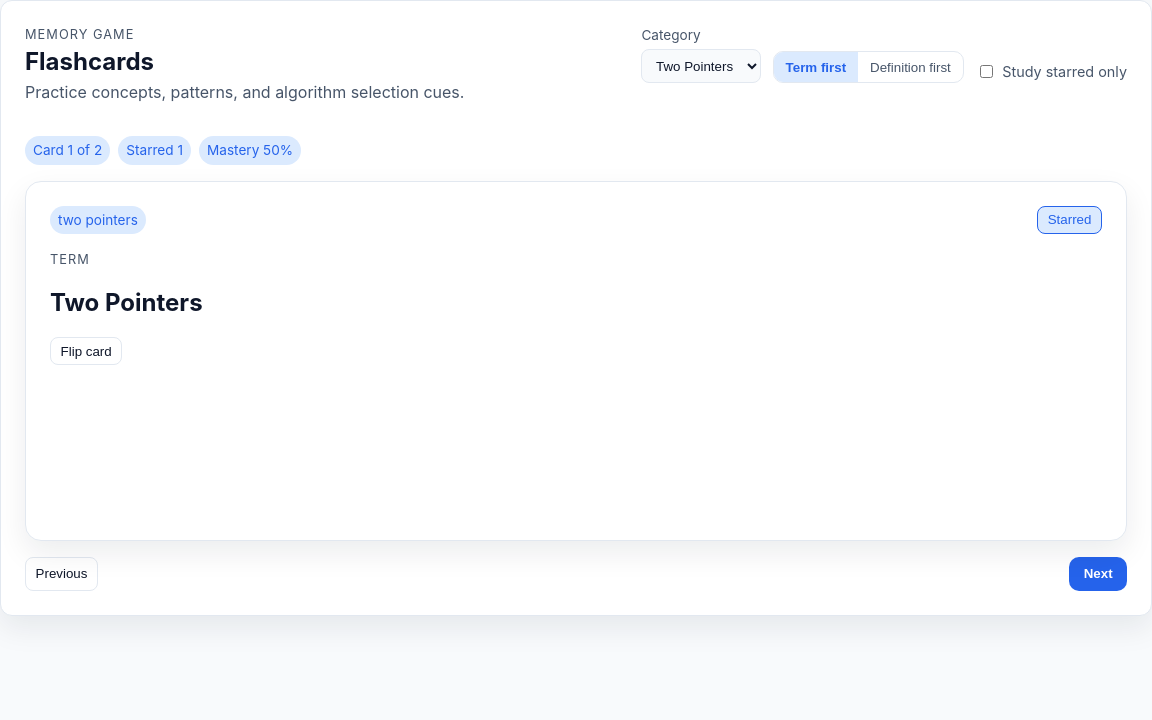
Test case: FlashcardsPage › toggles study mode and starred filter
The width and height of the screenshot is (1152, 720).
Expected: the heading "Two Pointers" is shown, [50,288,203,317]
What coordinates should you click on to do the following:
click the button "Definition first"
I would click on:
 (910, 67)
Its box is [858,52,963,82].
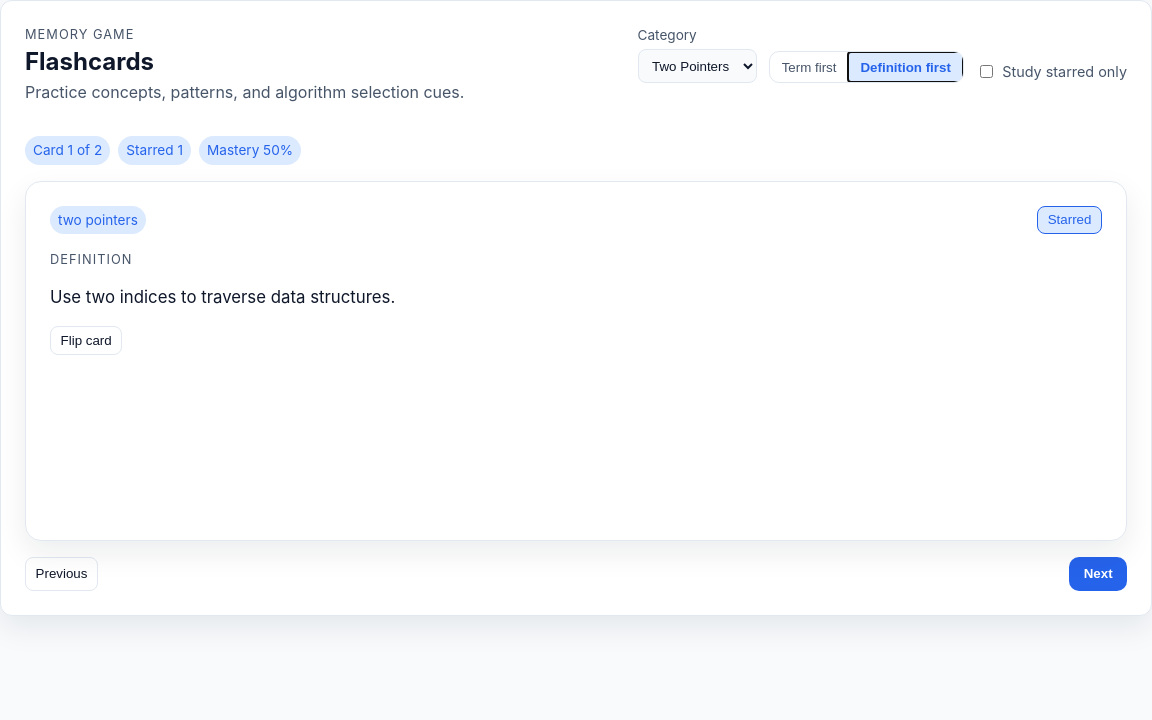
Expected: the text "Use two indices to traverse data structures." is shown, [50,287,395,307]
What coordinates should you click on to do the following:
click the button "Starred"
I would click on:
 (1070, 220)
Its box is [1037,206,1102,234].
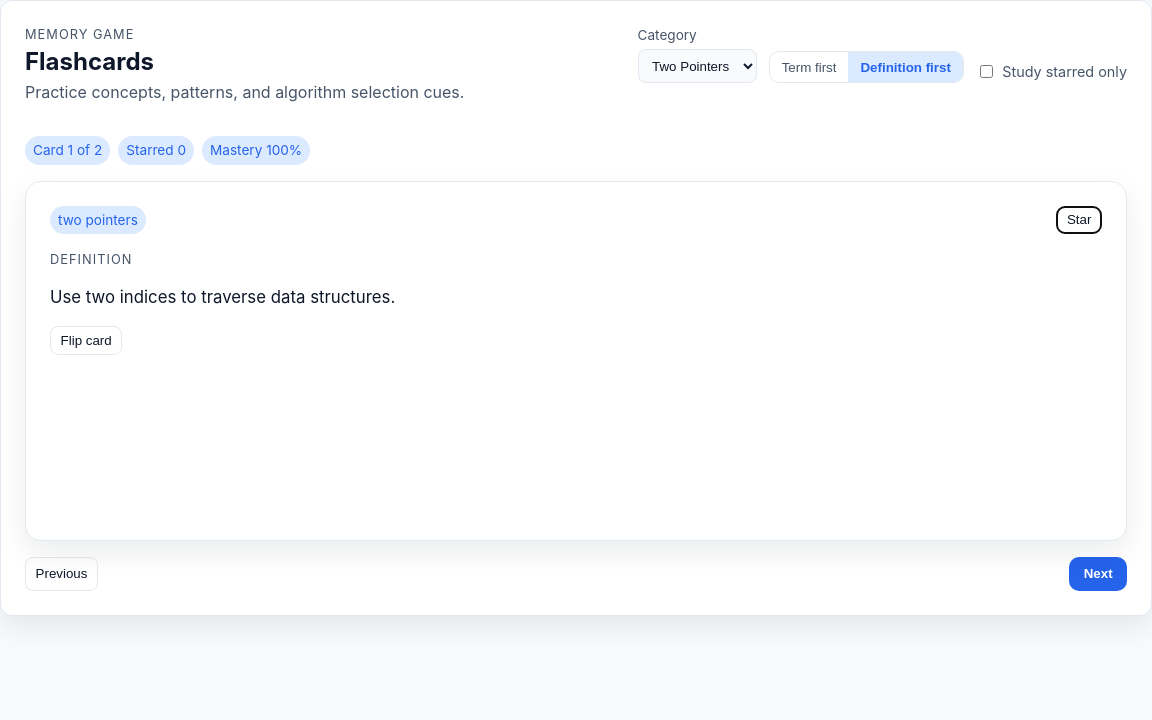
Expected: the number of buttons "Star" is 2, [1056,206,1102,234]; [50,206,96,234]
What coordinates should you click on to do the following:
click the checkbox labelled "Study starred only"
I would click on:
 (986, 72)
Its box is [980,66,993,78].
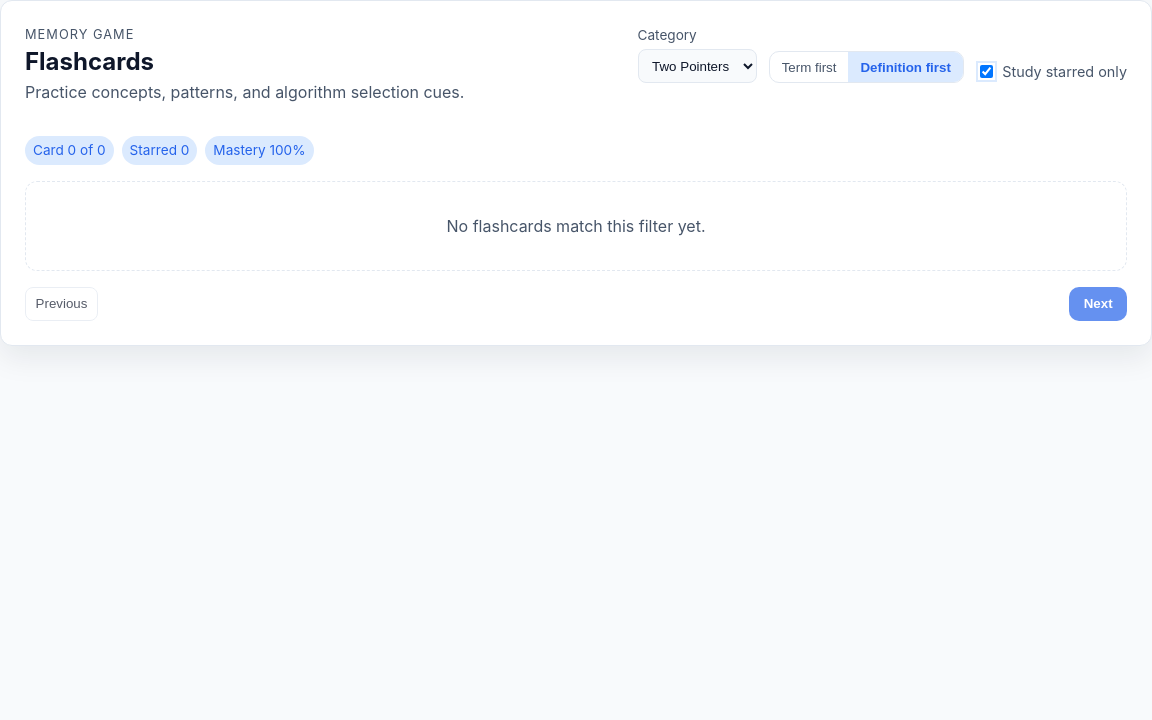
Result: the text "No flashcards match this filter yet." is shown at [446,216,706,236]
